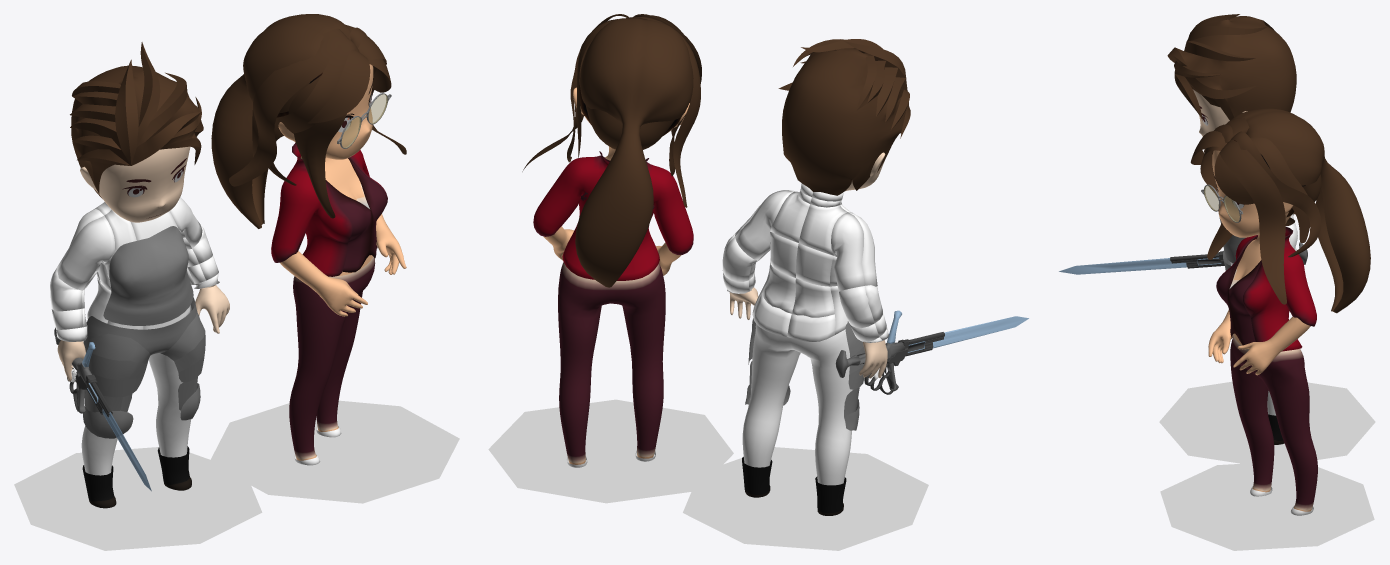
File: HerosTris.fbx
The picture shows the model from 3 angles, left to right: view 1: azimuth 30°, elevation 25°; view 2: azimuth 150°, elevation 25°; view 3: azimuth 270°, elevation 25°; orthographic projection. The views are drawn at different scales.
Visible parts, largest first — view 1: Plane.014, Shadow.007, Shadow.008, GirlBody.003, BoyHair.001, Coat.003, PlateArmorChest.002, PlateArmorWaist.002, BoyBody.003, Dress.004, Pants.001, Dress.005 (+5 smaller); view 2: Plane.014, Coat.003, Shadow.007, Shadow.008, BoyHair.001, GirlBody.003, Pants.001, Dress.004, ShotGunGreatSword.001, Shoes.006, BoyBody.003, PlateArmorWaist.002; view 3: Plane.014, GirlBody.003, Shadow.007, BoyHair.001, Shadow.008, Dress.004, ShotGunGreatSword.001, Dress.005, BoyBody.003, Glasses.005.
Part boxes in pixels (bbox=[...]): Plane.014: bbox=[211, 14, 406, 228]; Shadow.007: bbox=[210, 400, 459, 503]; Shadow.008: bbox=[14, 447, 262, 550]; GirlBody.003: bbox=[277, 64, 406, 460]; BoyHair.001: bbox=[70, 42, 203, 198]; Coat.003: bbox=[50, 197, 219, 341]; PlateArmorChest.002: bbox=[103, 226, 193, 325]; PlateArmorWaist.002: bbox=[83, 297, 205, 397]; BoyBody.003: bbox=[57, 146, 229, 381]; Dress.004: bbox=[271, 142, 387, 276]; Pants.001: bbox=[81, 353, 191, 475]; Dress.005: bbox=[325, 158, 386, 272]; Plane.014: bbox=[522, 14, 701, 287]; Coat.003: bbox=[722, 183, 889, 343]; Shadow.007: bbox=[488, 399, 733, 503]; Shadow.008: bbox=[683, 447, 928, 550]; BoyHair.001: bbox=[778, 39, 910, 195]; GirlBody.003: bbox=[543, 85, 689, 464]; Pants.001: bbox=[742, 324, 852, 485]; Dress.004: bbox=[533, 151, 693, 280]; ShotGunGreatSword.001: bbox=[835, 310, 1028, 394]; Shoes.006: bbox=[742, 457, 846, 515]; BoyBody.003: bbox=[729, 152, 887, 378]; PlateArmorWaist.002: bbox=[748, 318, 864, 389]; Plane.014: bbox=[1190, 108, 1370, 313]; GirlBody.003: bbox=[1208, 140, 1317, 511]; Shadow.007: bbox=[1160, 463, 1374, 550]; BoyHair.001: bbox=[1167, 14, 1296, 120]; Shadow.008: bbox=[1159, 381, 1375, 466]; Dress.004: bbox=[1216, 226, 1316, 351]; ShotGunGreatSword.001: bbox=[1059, 242, 1307, 274]; Dress.005: bbox=[1217, 236, 1261, 345]; BoyBody.003: bbox=[1193, 89, 1247, 136]; Glasses.005: bbox=[1201, 184, 1242, 222].
Size of the model in its own units: 175 by 188 by 134.
